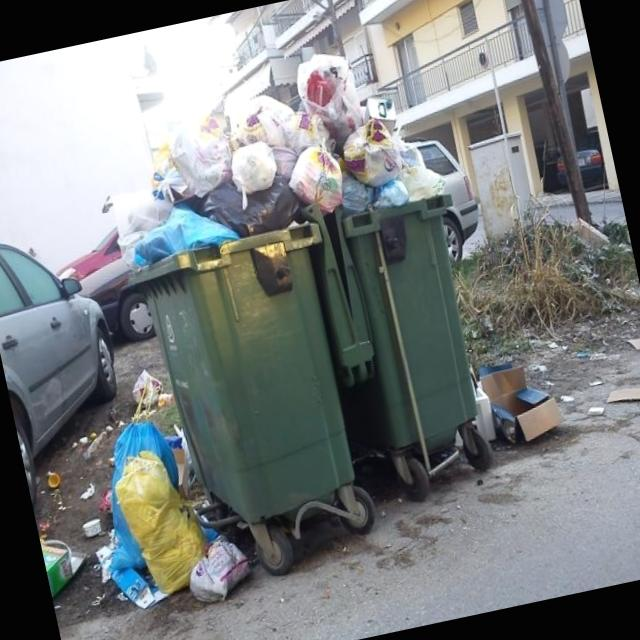garbage: (82, 53, 449, 295), (96, 369, 247, 607), (468, 363, 560, 442), (37, 529, 84, 597), (607, 385, 640, 402), (83, 516, 101, 537), (628, 338, 640, 349)
